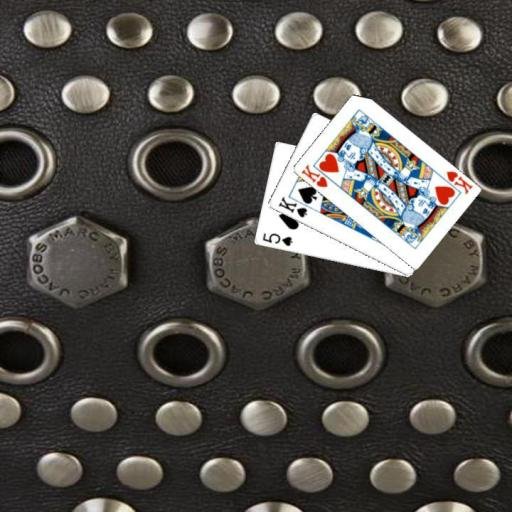5S: (259, 230, 294, 248)
KH: (298, 162, 329, 189), (443, 168, 474, 195)
KS: (275, 193, 309, 219)
